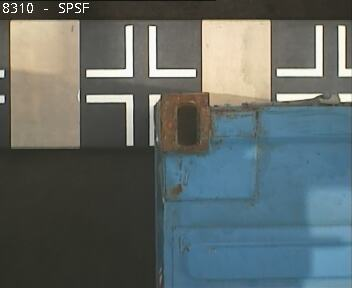groundmarker_1: (86, 93, 201, 147), (87, 25, 195, 78), (277, 23, 352, 77)
